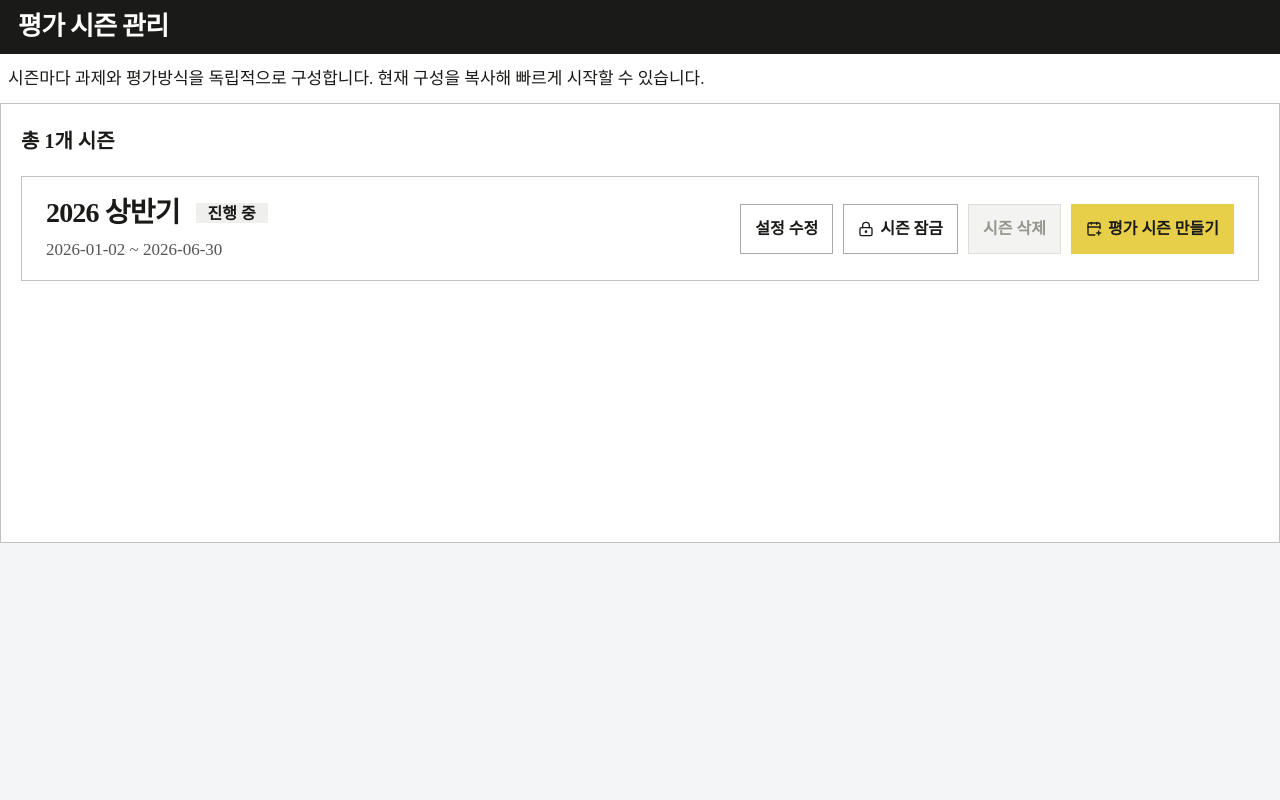
Test: CycleCreatorPanel › blocks an end date earlier than the start date
This screenshot has width=1280, height=800.
Click the button "평가 시즌 만들기".
click(1152, 229)  # box [1071,204,1234,254]
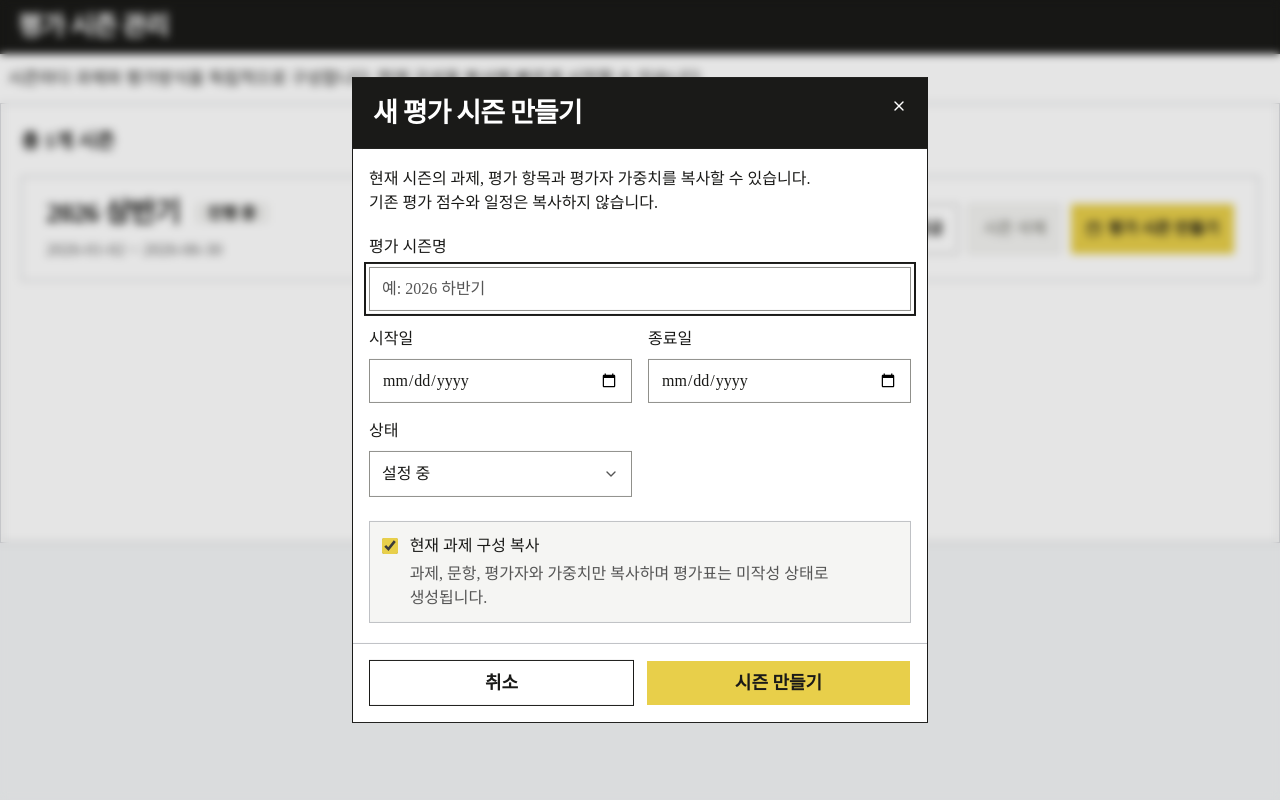
Type "기간 오류" into the field labelled "평가 시즌명".
click(640, 289); type("기간 오류")  # box [369,267,911,311]
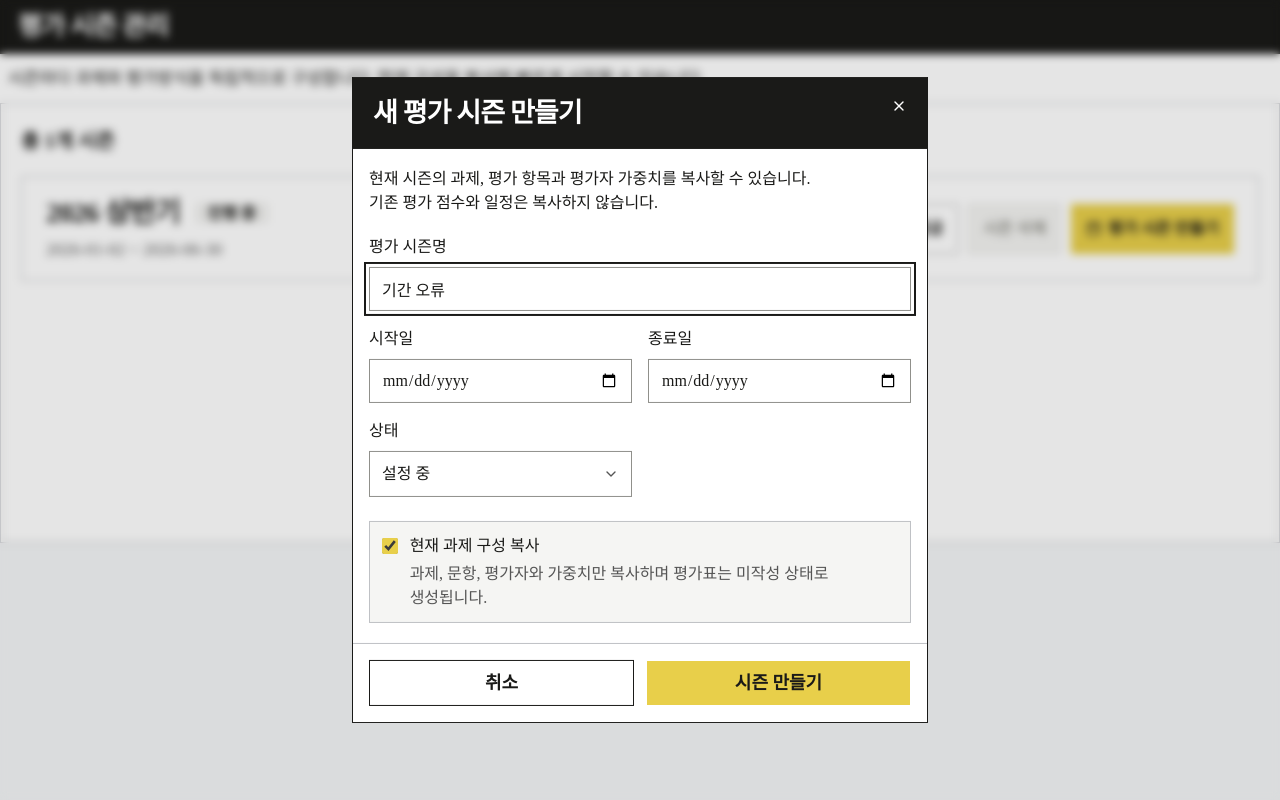
Type "2026-12-31" into the date field labelled "시작일".
click(500, 381); type("2026-12-31")  # box [369,359,632,403]
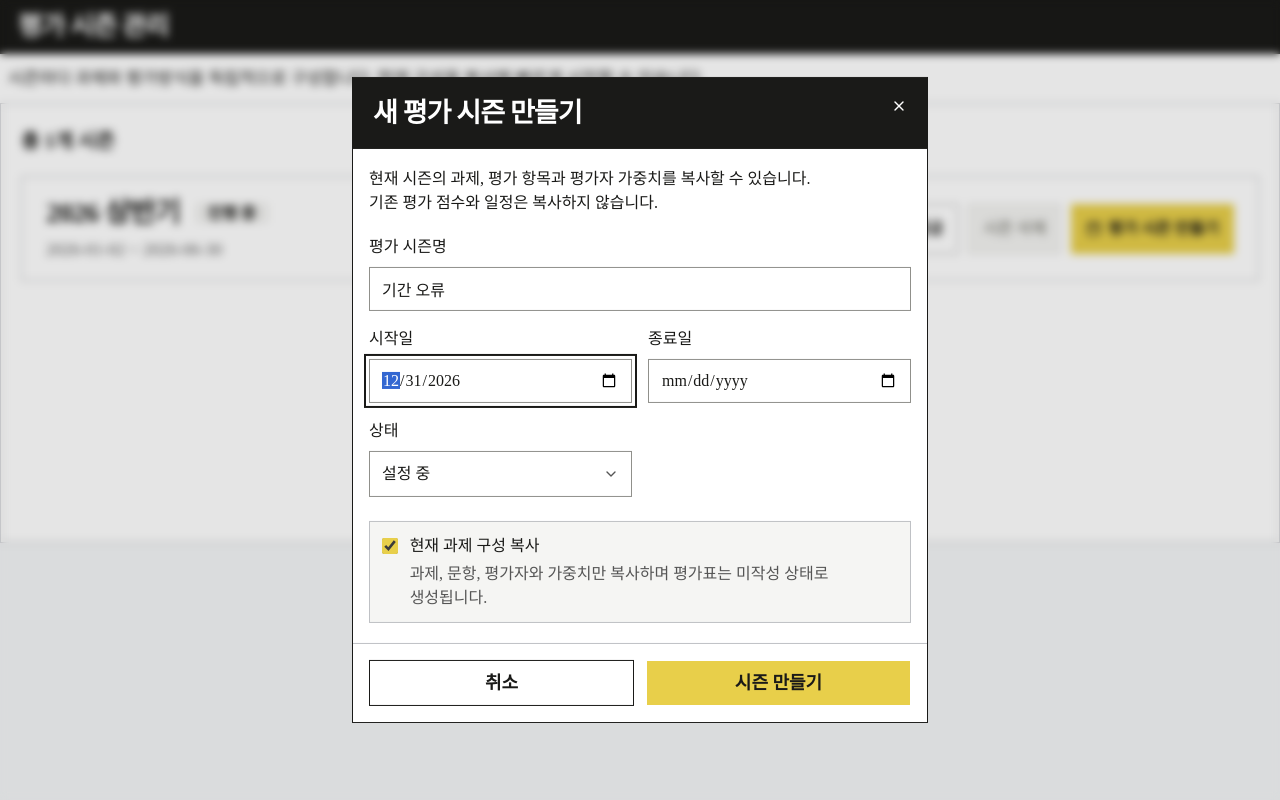
Type "2026-07-01" into the date field labelled "종료일".
click(780, 381); type("2026-07-01")  # box [648,359,911,403]
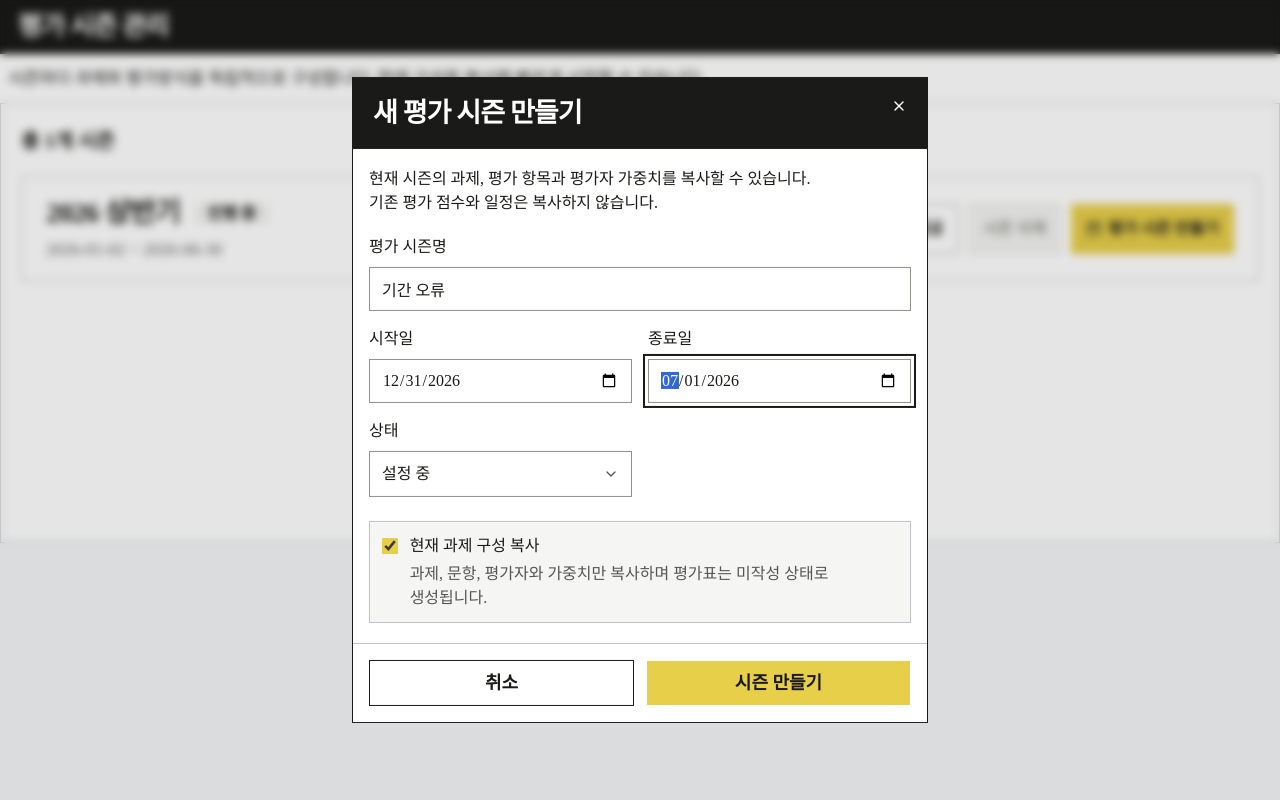
Click the button "시즌 만들기".
click(778, 683)  # box [646,660,911,706]
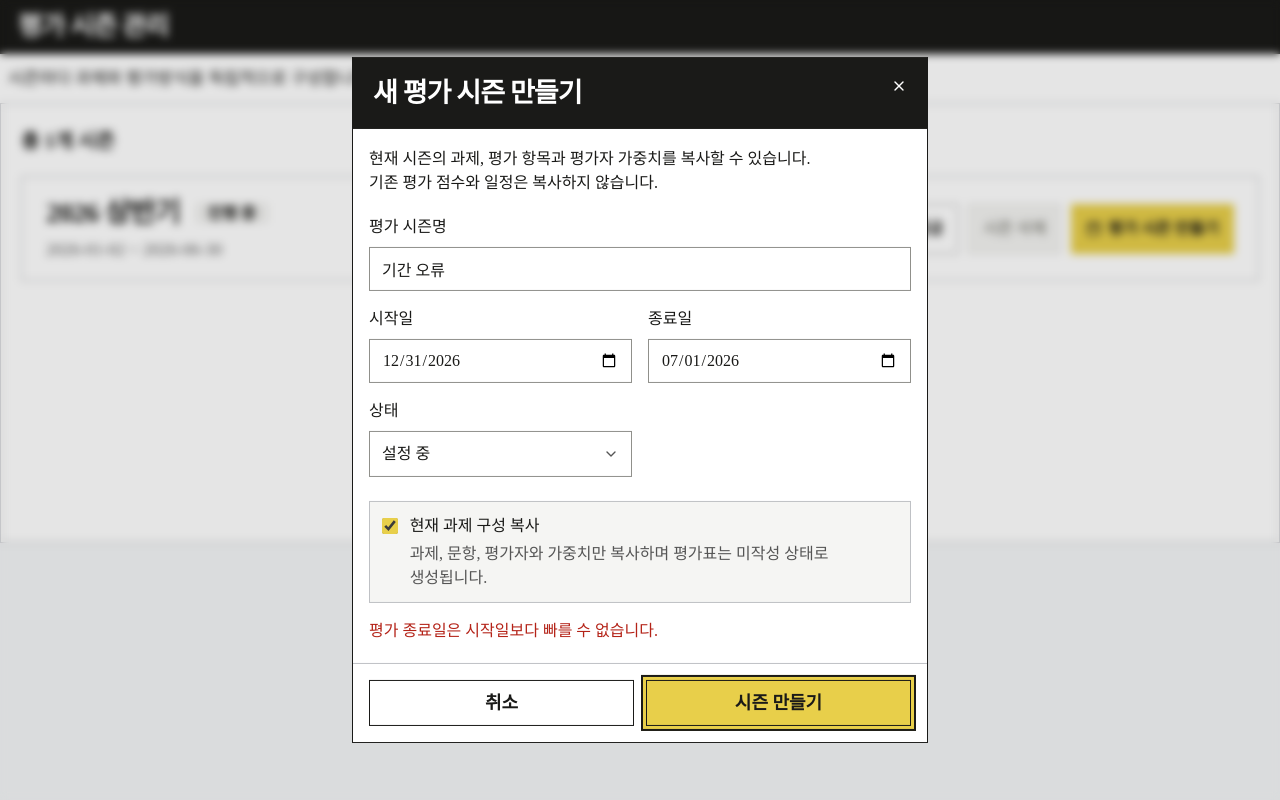
Expected: the message reads "평가 종료일은 시작일보다 빠를 수 없습니다.", [369,622,658,639]
